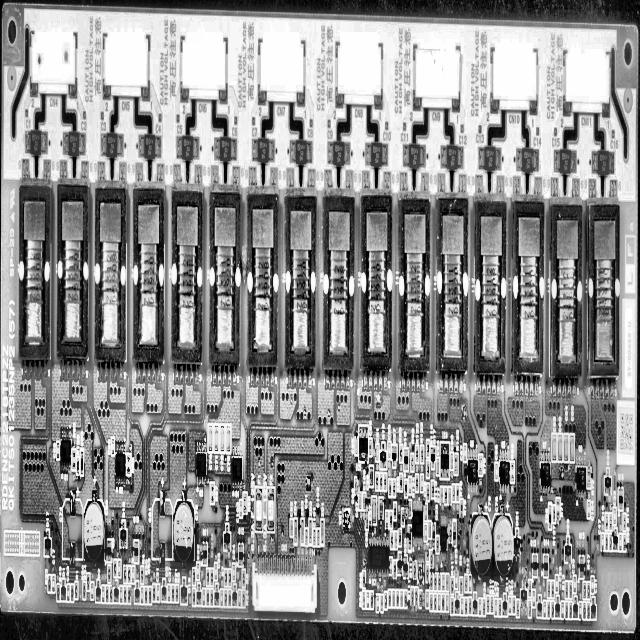PCB: (1, 5, 636, 640)
